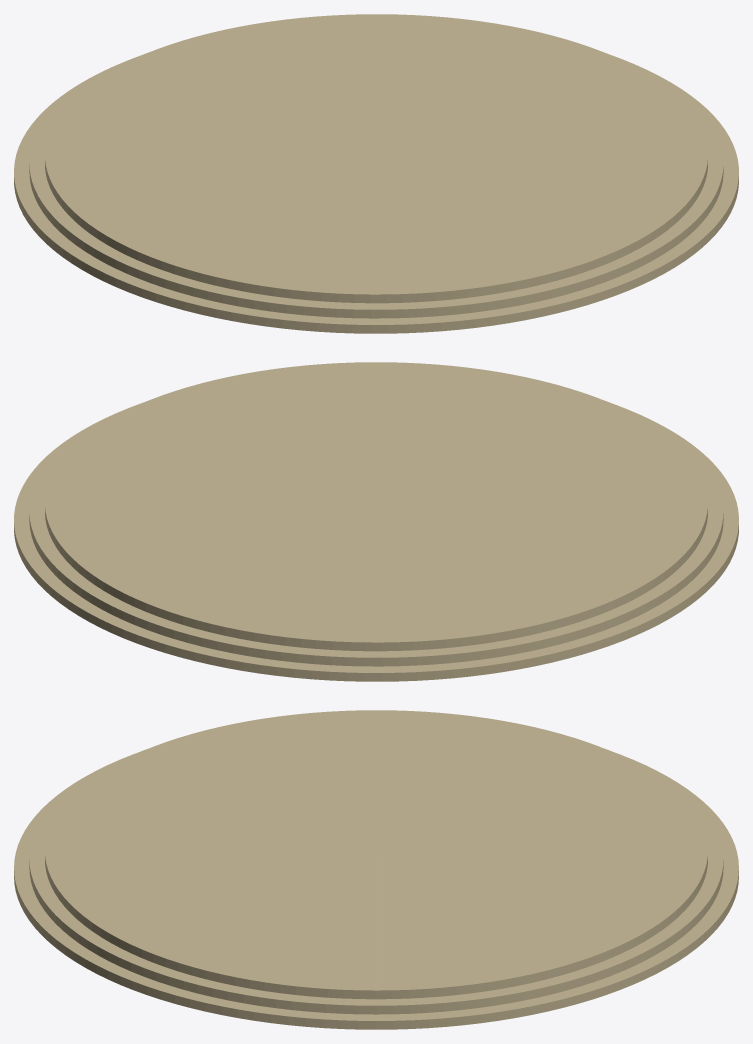
Rendered from canopy--limestone.glb.
3 renders of one model, top to bottom at view 1: azimuth 30°, elevation 25°; view 2: azimuth 150°, elevation 25°; view 3: azimuth 270°, elevation 25°, orthographic.
Visible parts, largest first — view 1: canopy; view 2: canopy; view 3: canopy.
Boxes of the visible parts, <box> form: canopy: <box>14,14,738,333</box>; canopy: <box>14,362,738,681</box>; canopy: <box>14,710,738,1029</box>.
Size of the model in its own units: 8.46 by 0.3375 by 8.46.
